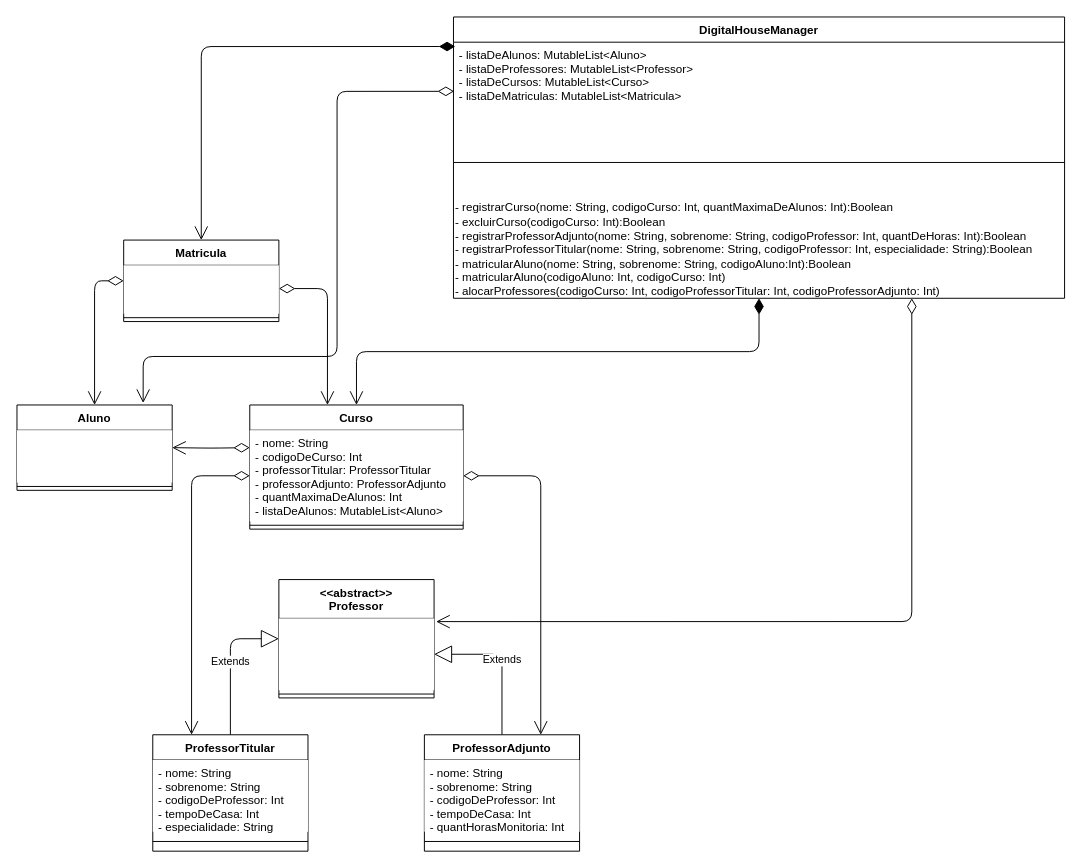
Image size: 1082x868. Some labels were removed from this diagram. The centre of each missing label's shape, as x and y in pixels:
"- aluno: Aluno - curso: Curso - matricula: Date" goes at point 200,289.
"- nome: String - sobrenome: String - codigoDeAluno: Int" goes at point 94,456.
"- nome: String - sobrenome: String - codigoDeProfessor: Int - tempoDeCasa: Int" goes at point 356,654.
